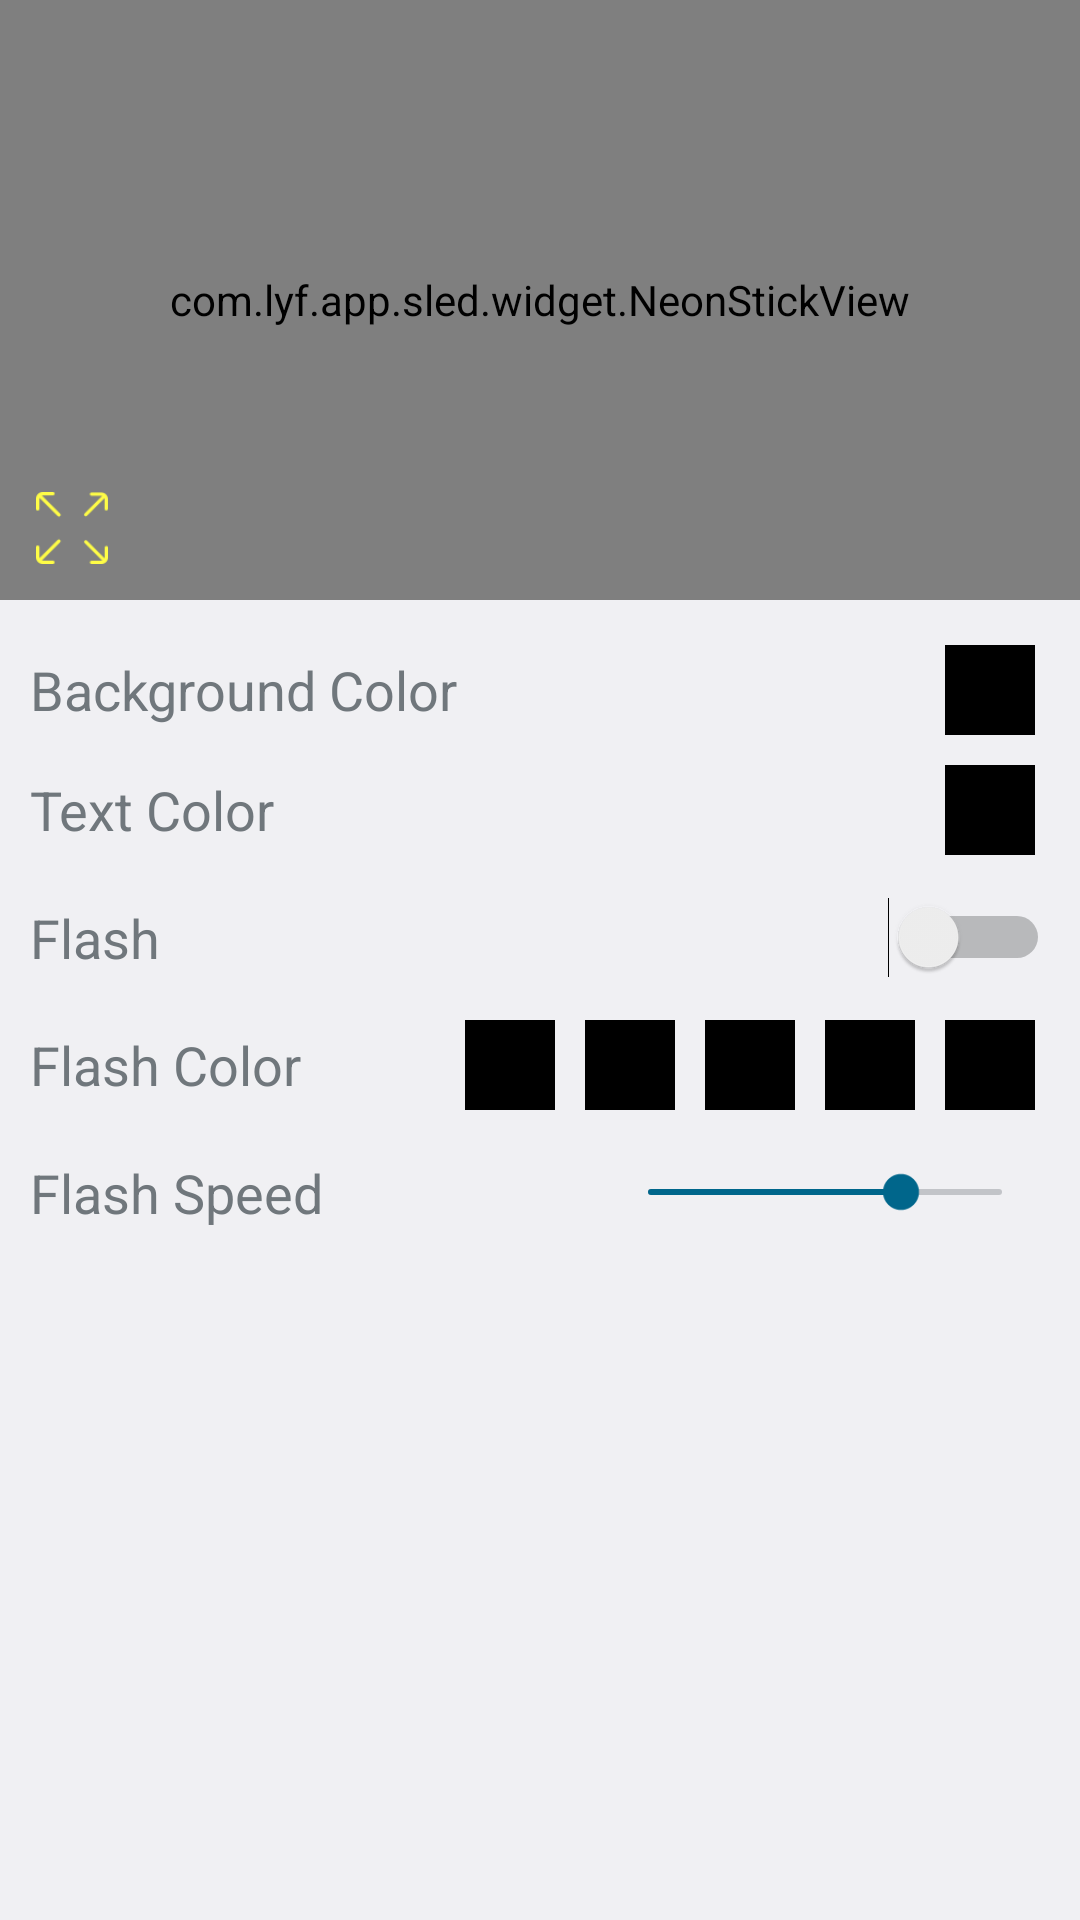

Icon bounding boxes for this 1080×1920 phone screenshot, format (x1, y1, x2, y2):
fullscreen: (36, 492, 108, 564)
